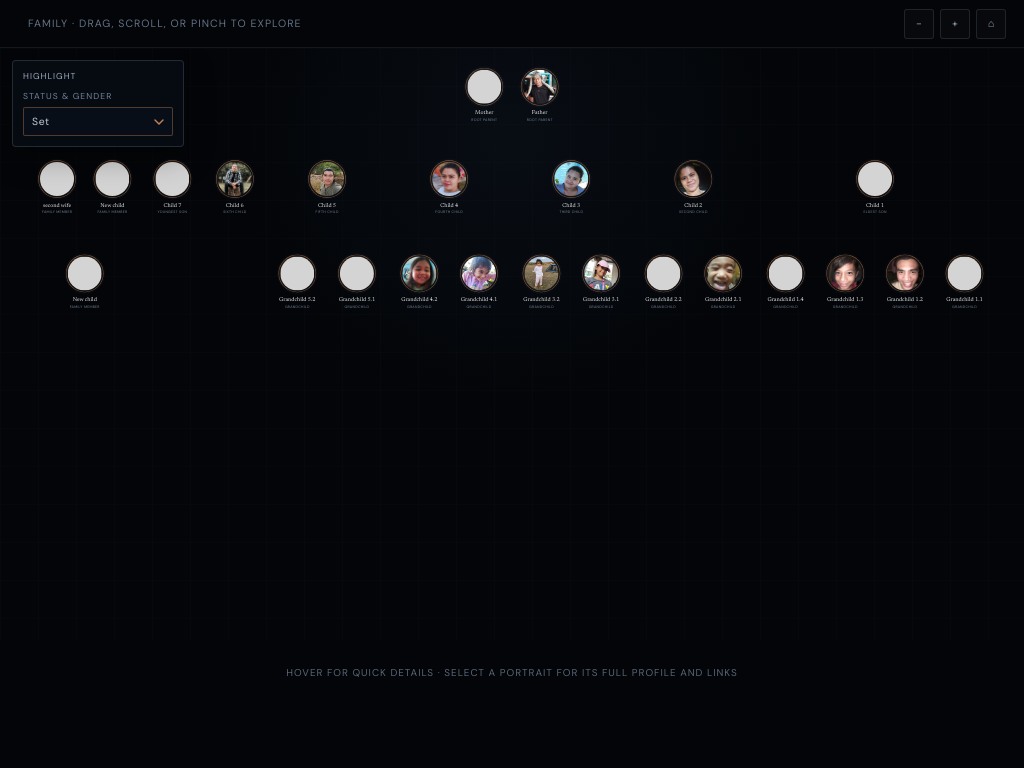
Test case: LineageGraph details and portraits › shows missing values, status, and portrait number in the hover card
Hover over the button with aria-label "Father details" at (540, 95), box 515,68 -> 564,122
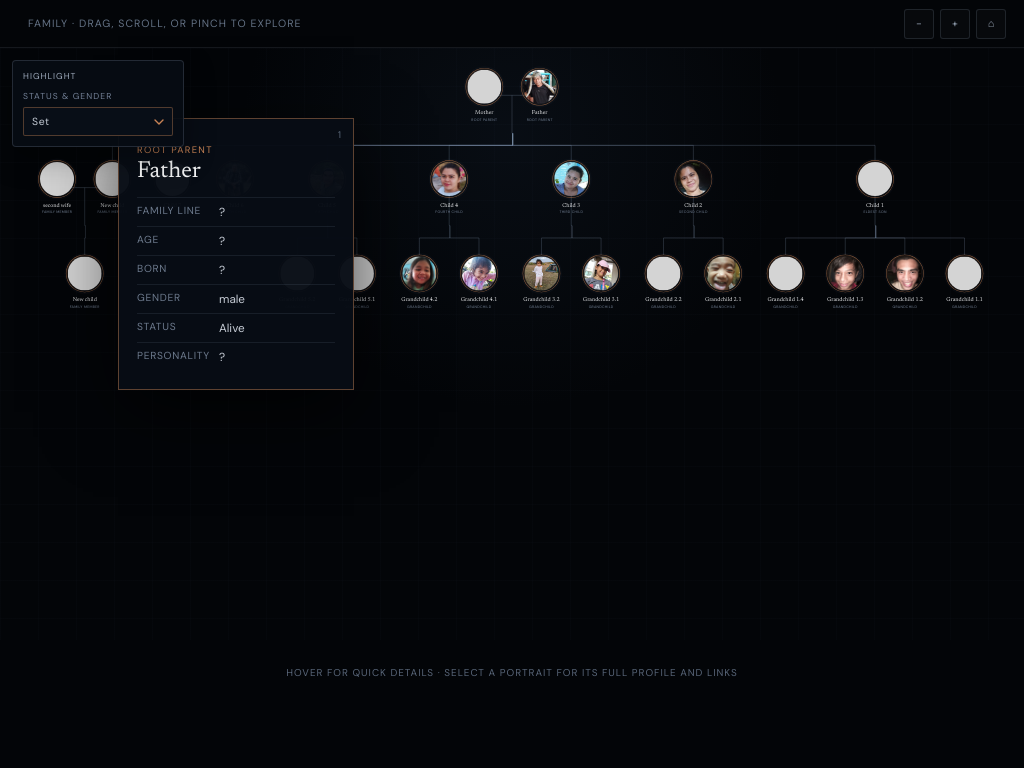
Expected: the tooltip named "Father details" shows "Age?", 137,233 -> 159,246
Expected: the tooltip named "Father details" shows "Born?", 137,262 -> 167,275
Expected: the tooltip named "Father details" shows "Personality?", 137,349 -> 210,362
